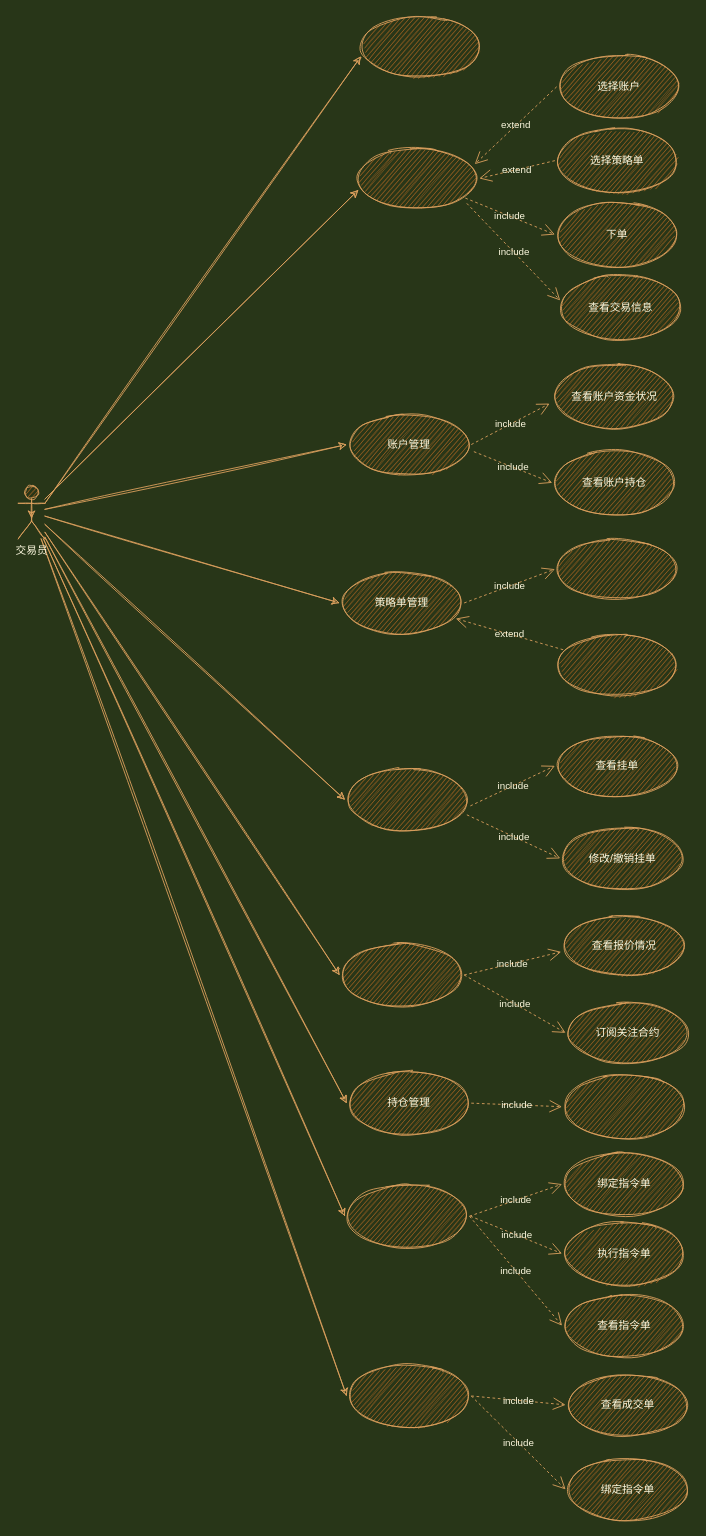
This 706x1536 diagram has some shape labels left out. Here are the shapes that lost their labels. From the top down, the centre of each, then its label:
(420,46): 登录
(416,178): 交易
(617,568): 策略单CRUD
(617,664): 开启/停止策略
(406,799): 挂单管理
(401,974): 报价管理
(624,1106): 查看持仓
(406,1215): 指令单管理
(408,1395): 成交单管理
